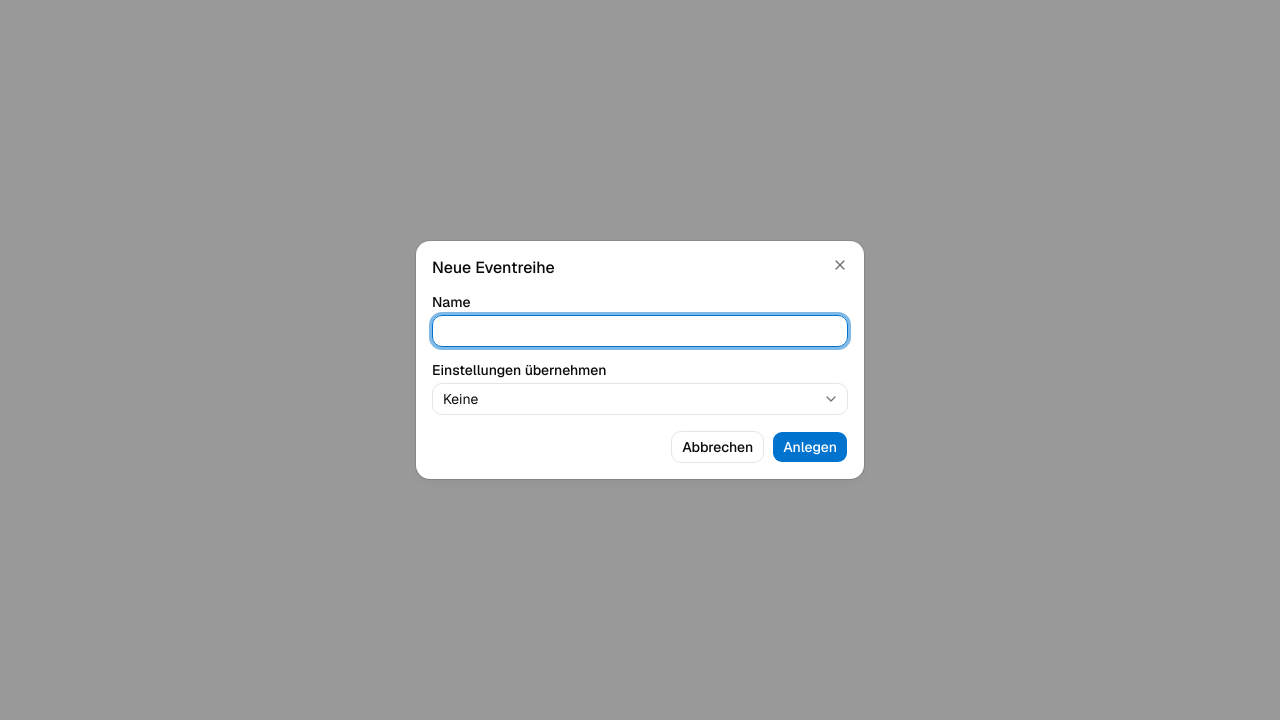
Test case: EventSeriesFormDialog — creating › says which sources are archived
The width and height of the screenshot is (1280, 720).
Click the dropdown named "Einstellungen übernehmen".
click(461, 399)  # box [432,383,848,415]
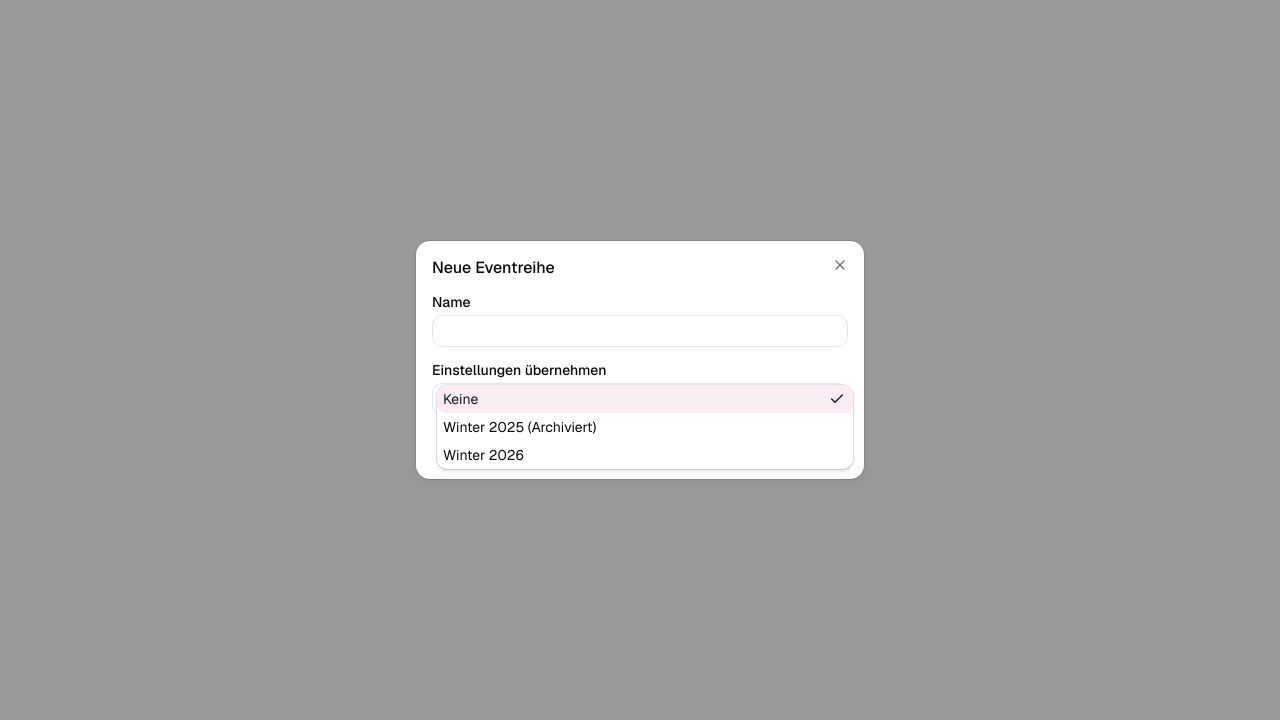
Now the option "Winter 2025 (Archiviert)" is shown, box [443,418,596,436]
Now the option "Winter 2026" is shown, box [443,446,524,464]
